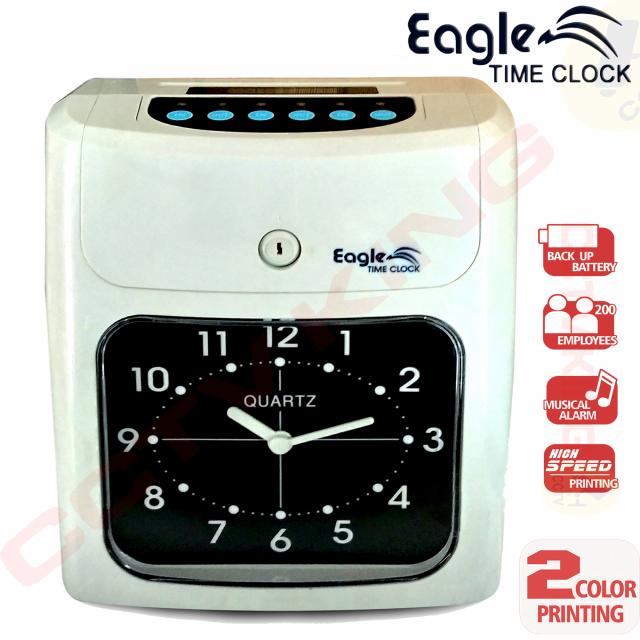clock: (27, 283, 507, 592)
